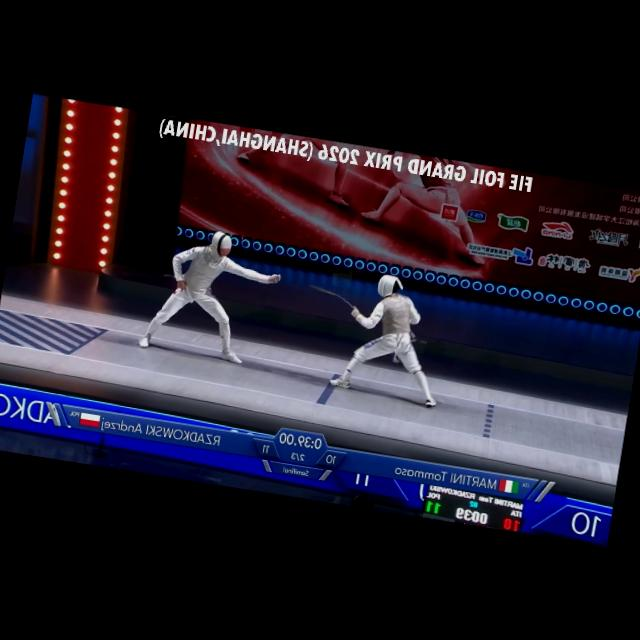blade: (271, 258, 352, 300), (296, 282, 366, 316)
